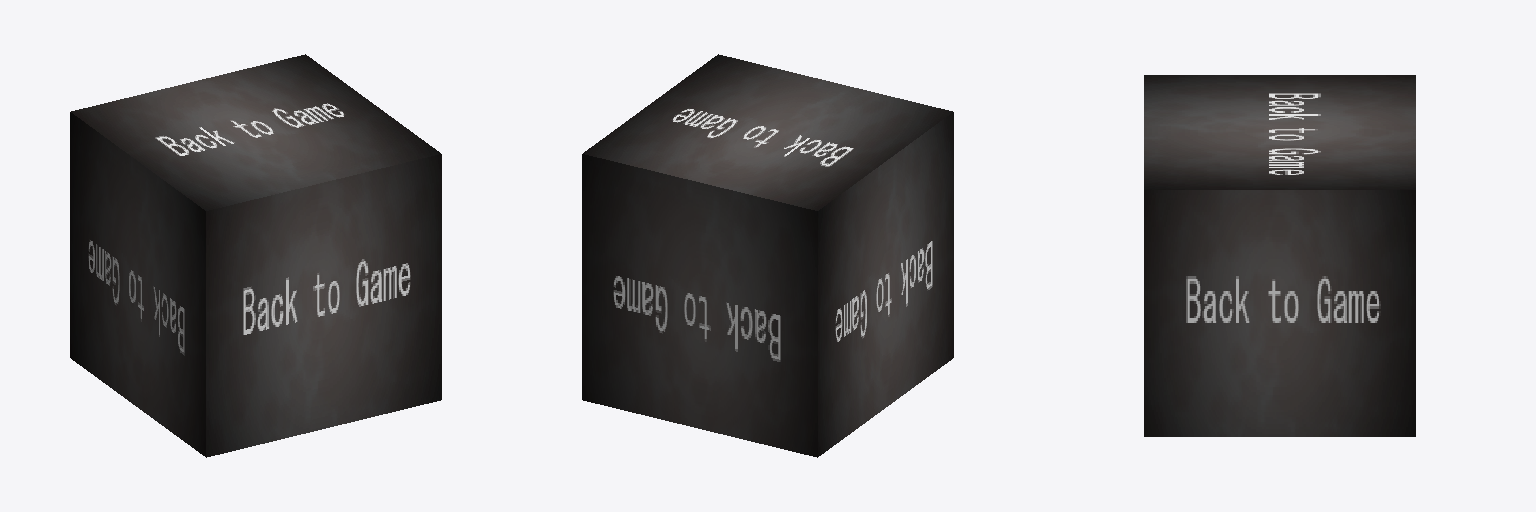
3 renders of one model, left to right at view 1: azimuth 30°, elevation 25°; view 2: azimuth 150°, elevation 25°; view 3: azimuth 270°, elevation 25°, orthographic.
Parts seen in each view (by area): view 1: Cube; view 2: Cube; view 3: Cube.
Boxes of the visible parts, <box> form: Cube: <box>70,54,441,457</box>; Cube: <box>582,54,953,457</box>; Cube: <box>1144,75,1415,436</box>.
Size of the model in its own units: 2 by 2 by 2.
1 materials, 1 textured.